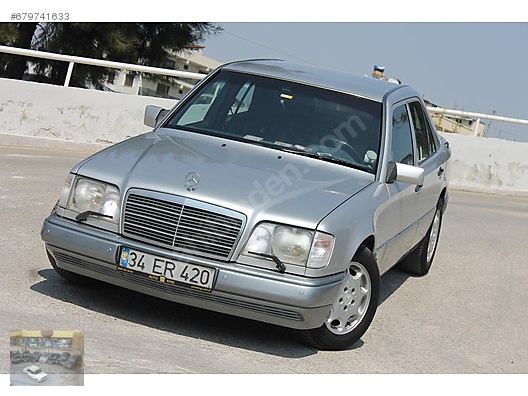mercedes: (38, 55, 453, 354)
